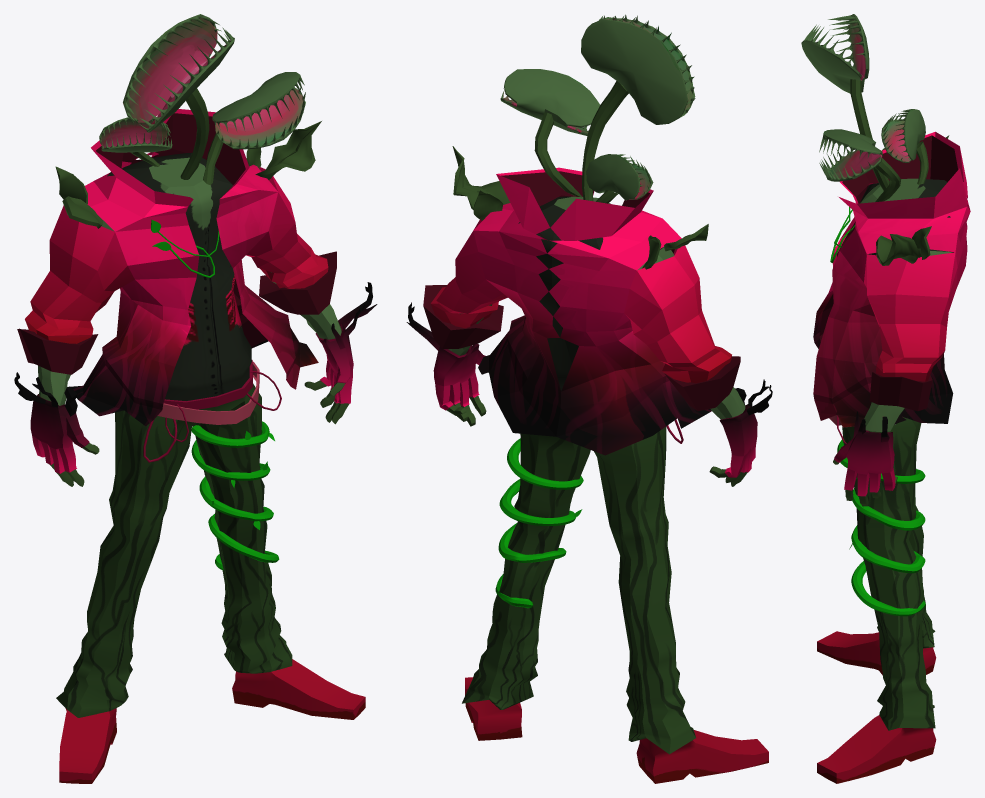
File: venussy.fbx
3 views of the same model, side by side, from view 1: azimuth 30°, elevation 25°; view 2: azimuth 150°, elevation 25°; view 3: azimuth 270°, elevation 25° (orthographic). The views are drawn at different scales.
Visible parts, largest first — view 1: group6; view 2: group6; view 3: group6.
Part boxes in pixels (box(x1,y1,x2,y2)): group6: box(14, 14, 377, 783); group6: box(406, 14, 772, 783); group6: box(801, 14, 970, 783).
Bounding box in the file's own units: 19.77 × 37.34 × 8.33.
Materials: 12 (7 with a texture image).
